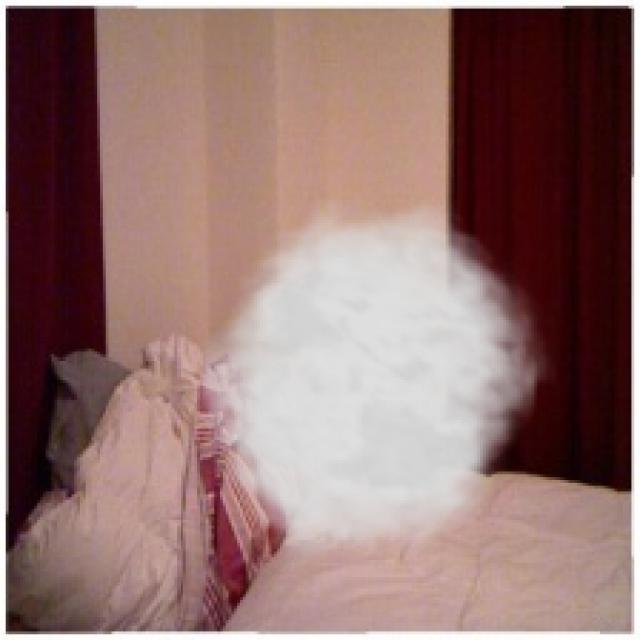Smoke: (185, 197, 558, 572)
